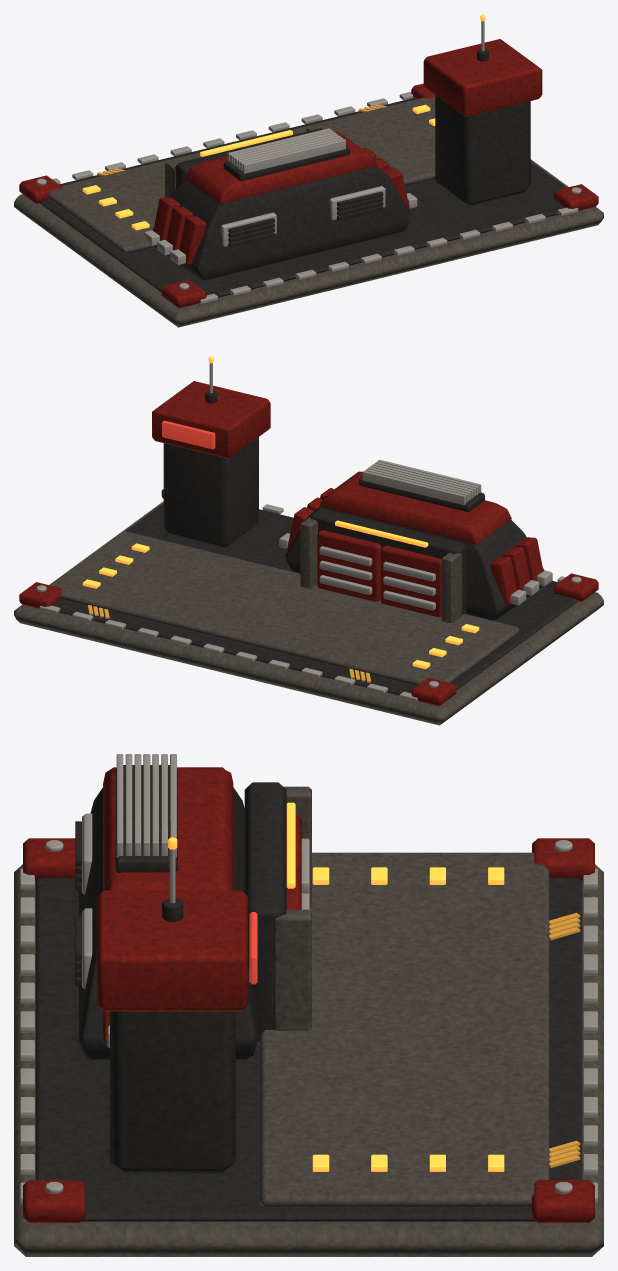
File: kharn_piste_de_guerre.gltf
The picture shows the model from 3 angles, top to bottom: view 1: azimuth 30°, elevation 25°; view 2: azimuth 150°, elevation 25°; view 3: azimuth 270°, elevation 25°; orthographic projection. The views are drawn at different scales.
Visible parts, largest first — view 1: Root.002_Geometry; view 2: Root.002_Geometry, Door_R.001_Geometry, Door_L.001_Geometry; view 3: Root.002_Geometry, Door_L.001_Geometry.
Boxes of the visible parts, left/top/right/bottom form: Root.002_Geometry: left=14, top=14, right=603, bottom=327; Root.002_Geometry: left=14, top=356, right=603, bottom=725; Door_R.001_Geometry: left=317, top=530, right=381, bottom=601; Door_L.001_Geometry: left=381, top=545, right=441, bottom=617; Root.002_Geometry: left=14, top=754, right=603, bottom=1256; Door_L.001_Geometry: left=295, top=813, right=309, bottom=894.
Bounding box in the file's own units: 5.94 × 2.6 × 3.94.
7 materials, 3 textured.
